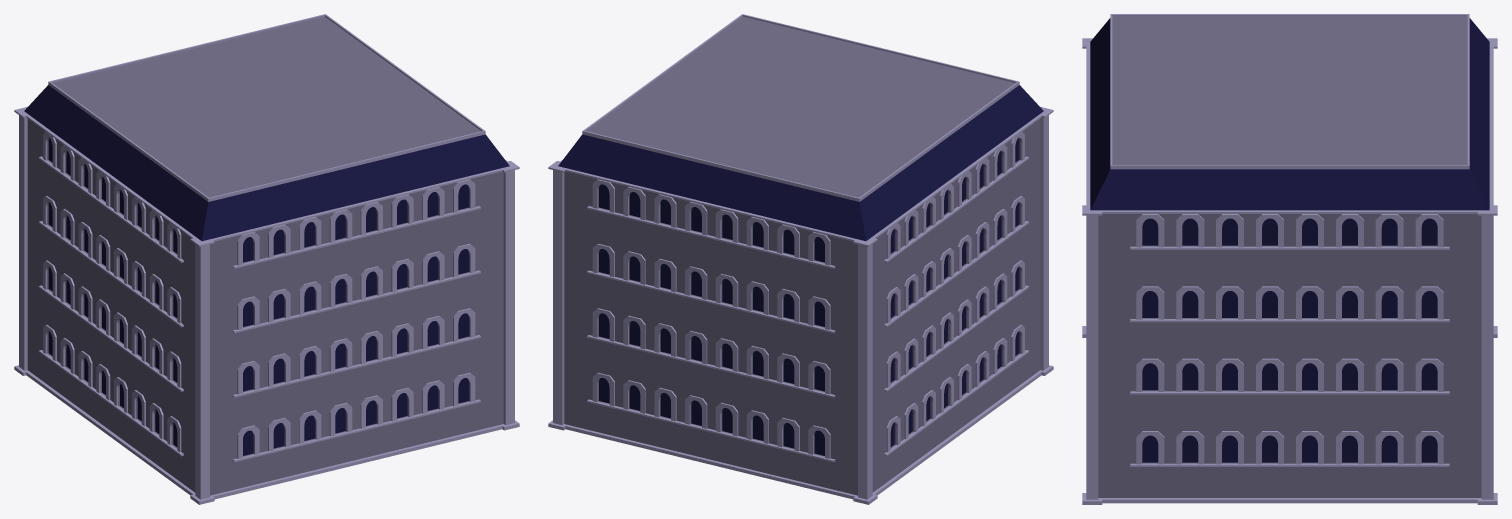
File: house v6.002.fbx
The picture shows the model from 3 angles, left to right: view 1: azimuth 30°, elevation 25°; view 2: azimuth 150°, elevation 25°; view 3: azimuth 270°, elevation 25°; orthographic projection. The views are drawn at different scales.
Visible parts, largest first — view 1: Building; view 2: Building; view 3: Building.
Boxes of the visible parts, left/top/right/bottom form: Building: left=14, top=14, right=519, bottom=504; Building: left=548, top=14, right=1053, bottom=504; Building: left=1082, top=14, right=1497, bottom=504.
Size of the model in its own units: 1040 by 1040 by 905.
